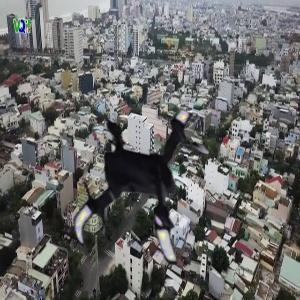drone: (49, 82, 240, 273)
